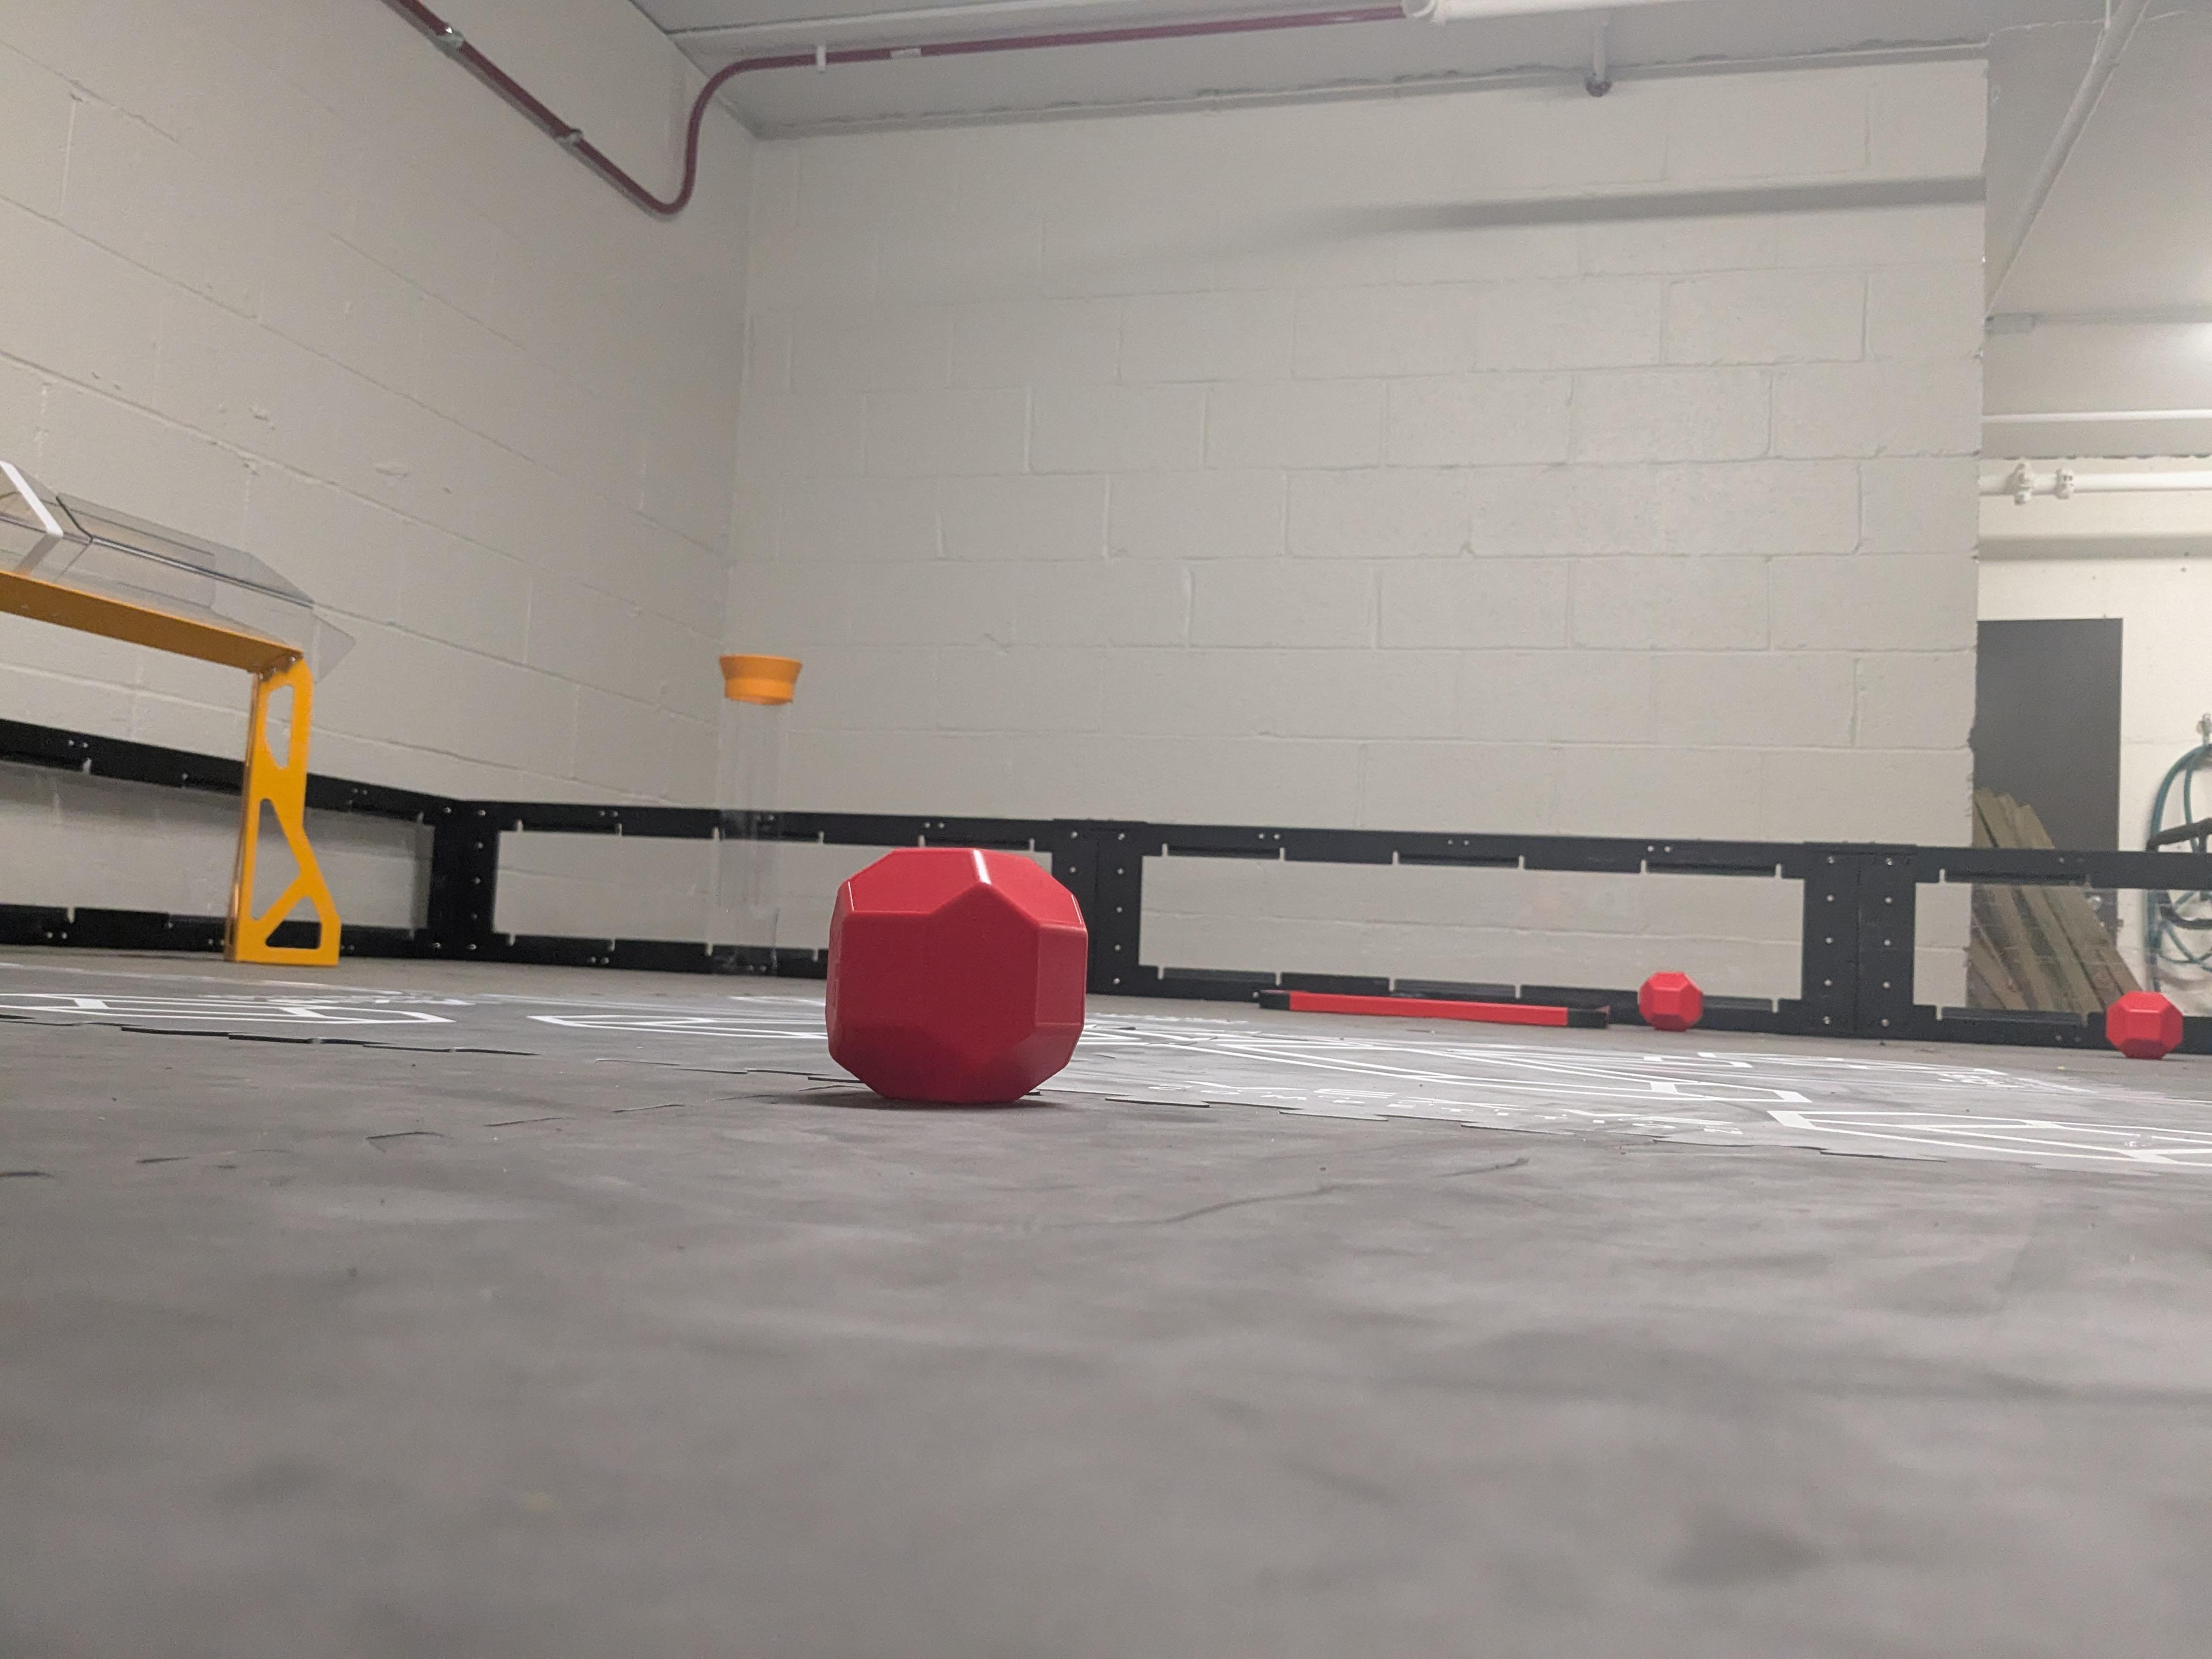Vex-Pieces-RED: (833, 847, 1085, 1100), (2104, 992, 2182, 1060), (1639, 972, 1702, 1032)
